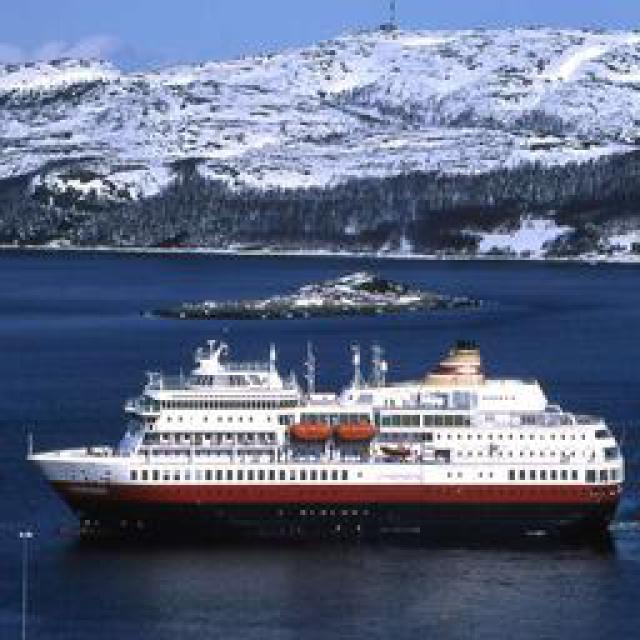Ship: (32, 329, 612, 539)
